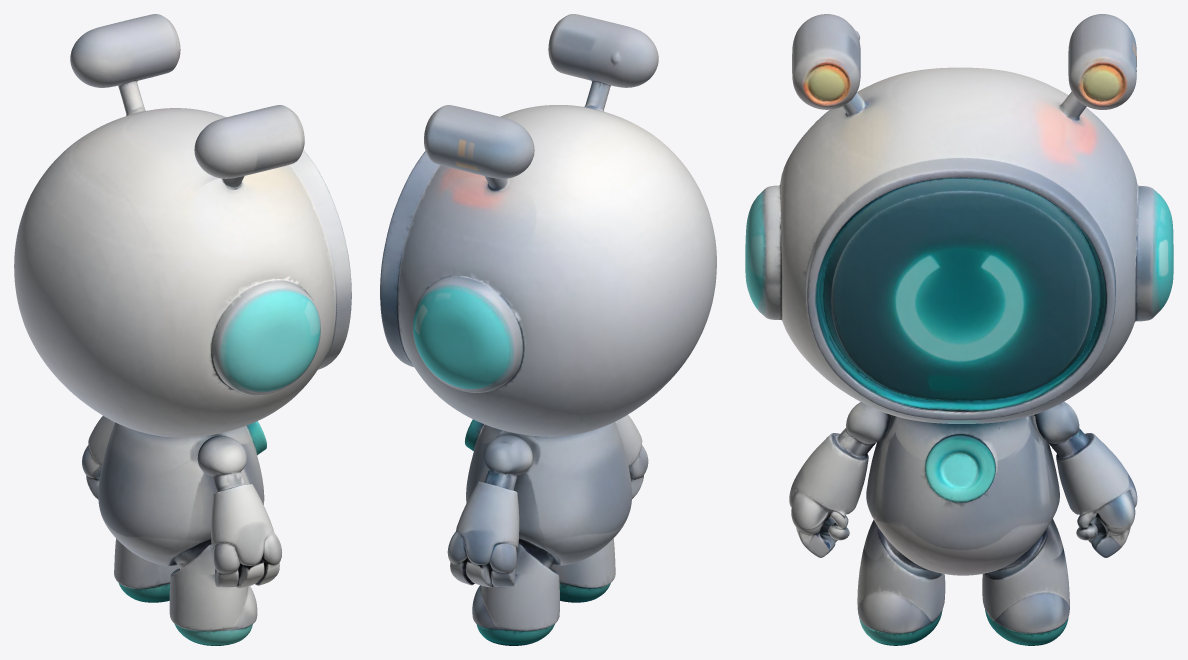
The model's file is mascot.glb.
3 views of the same model, side by side, from view 1: azimuth 30°, elevation 25°; view 2: azimuth 150°, elevation 25°; view 3: azimuth 270°, elevation 25° (orthographic). The views are drawn at different scales.
Visible parts, largest first — view 1: tripo_node_a8aa6e46-d01c-43a2-9098-7f3be5c17e55; view 2: tripo_node_a8aa6e46-d01c-43a2-9098-7f3be5c17e55; view 3: tripo_node_a8aa6e46-d01c-43a2-9098-7f3be5c17e55.
Boxes of the visible parts, x1,y1,x2,y2 form: tripo_node_a8aa6e46-d01c-43a2-9098-7f3be5c17e55: (14,14,351,645); tripo_node_a8aa6e46-d01c-43a2-9098-7f3be5c17e55: (380,14,716,645); tripo_node_a8aa6e46-d01c-43a2-9098-7f3be5c17e55: (745,14,1173,645).
Bounding box in the file's own units: 0.4832 × 1 × 0.6415.
Materials: 1 (1 with a texture image).
